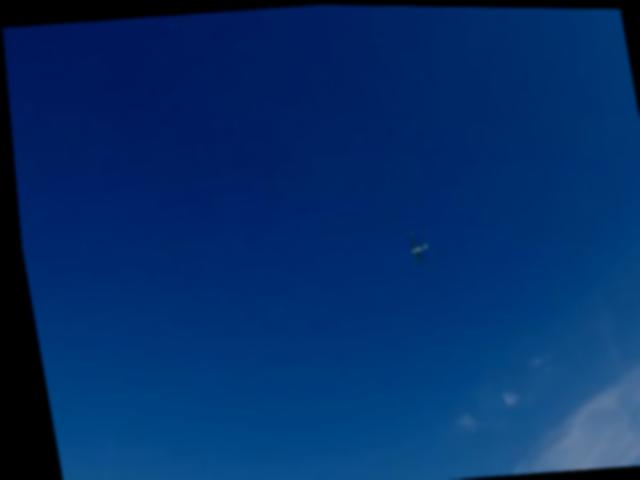uav: (393, 221, 433, 269)
